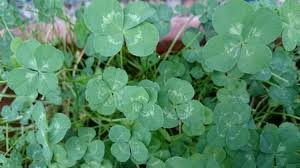4-clover: (205, 1, 280, 74), (85, 2, 158, 56), (6, 42, 61, 95), (85, 67, 132, 116), (208, 101, 251, 148), (108, 123, 152, 161)
